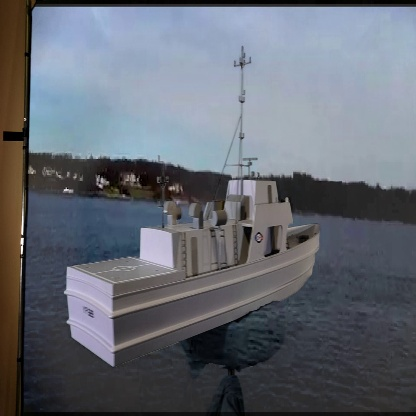YP689: (62, 43, 320, 370)
